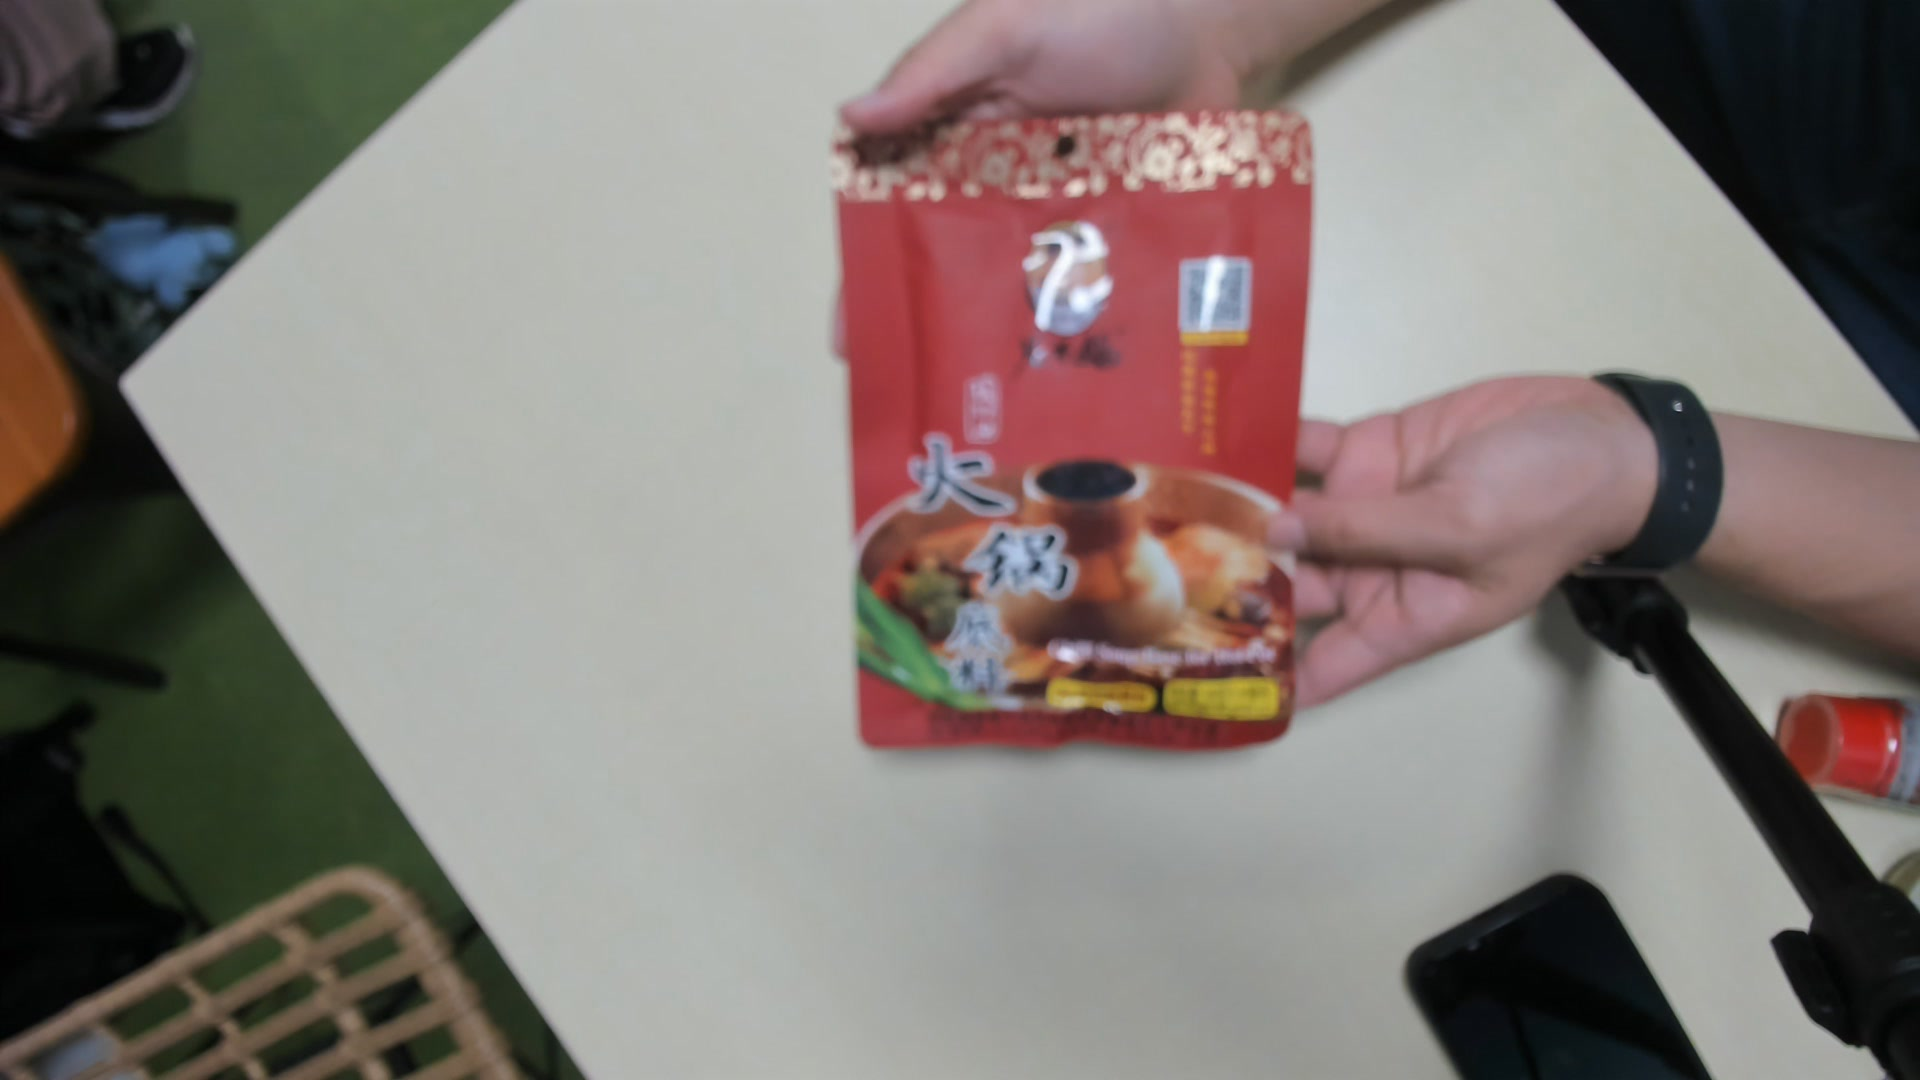OtherSauceDressing_100-199g_NonHalal_NonHealthy: (841, 120, 1296, 753)
